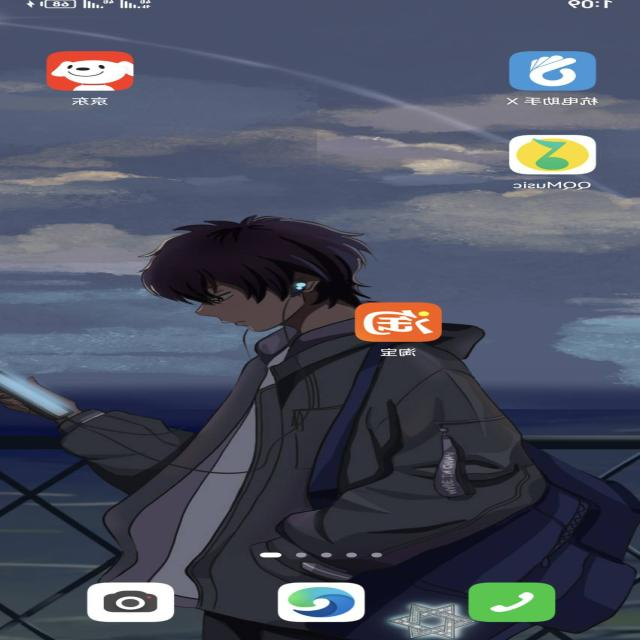Icon: (85, 582, 175, 622), (46, 51, 133, 92), (469, 582, 557, 622), (277, 582, 365, 622), (353, 302, 441, 342), (509, 135, 596, 175), (509, 51, 596, 90)
